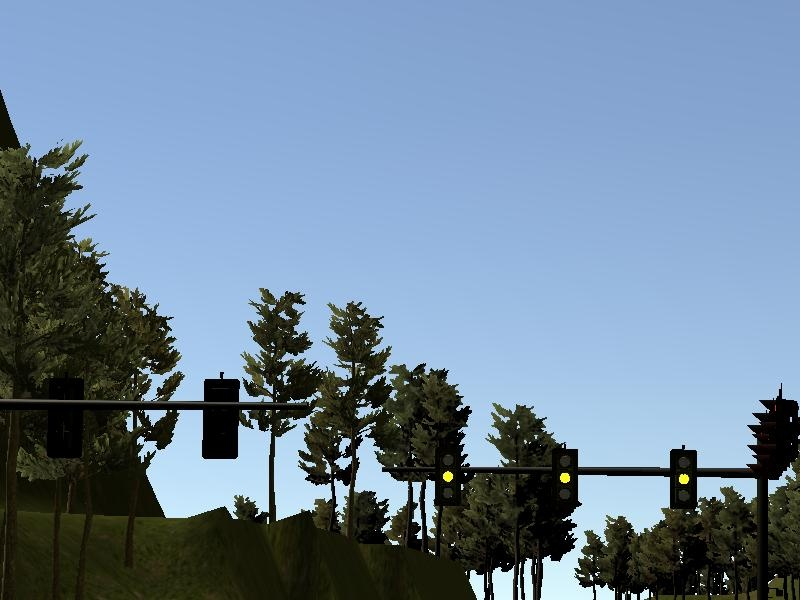yellow: (666, 445, 701, 516), (548, 442, 583, 511), (432, 442, 465, 510)
